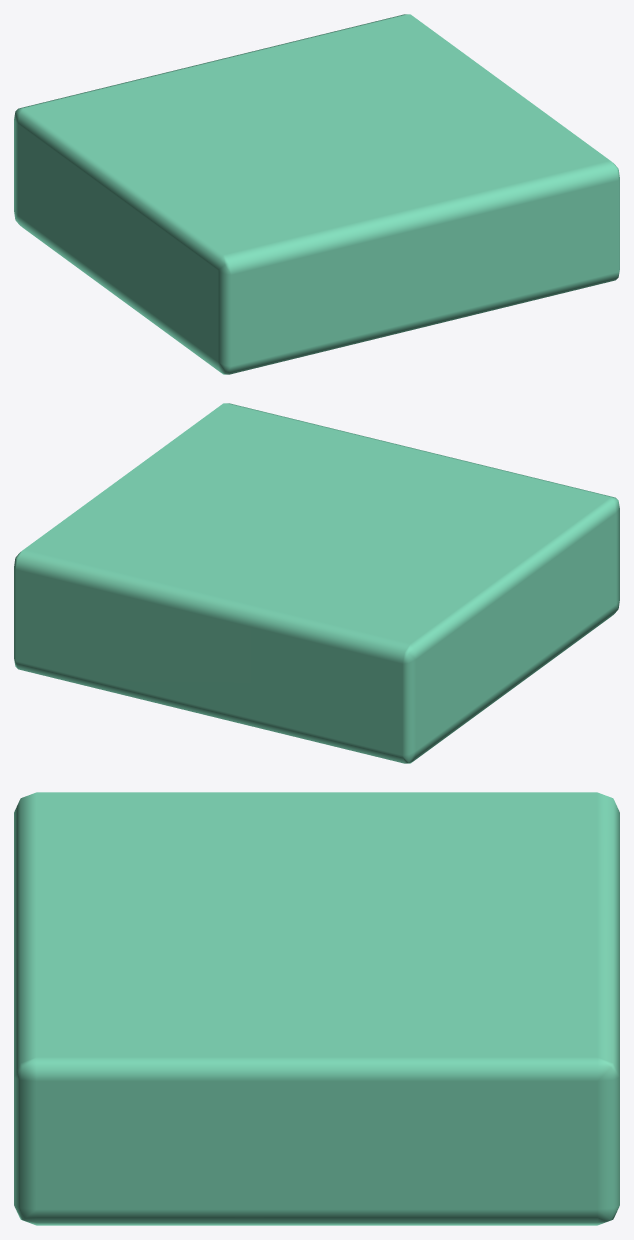
Rendered from platform5.glb.
3 renders of one model, top to bottom at view 1: azimuth 30°, elevation 25°; view 2: azimuth 150°, elevation 25°; view 3: azimuth 270°, elevation 25°, orthographic. The views are drawn at different scales.
Visible parts, largest first — view 1: platform; view 2: platform; view 3: platform.
Boxes of the visible parts, x1,y1,x2,y2 form: platform: [14, 14, 619, 374]; platform: [14, 403, 619, 763]; platform: [14, 792, 619, 1225].
Bounding box in the file's own units: 1.68 × 0.4836 × 1.58.
